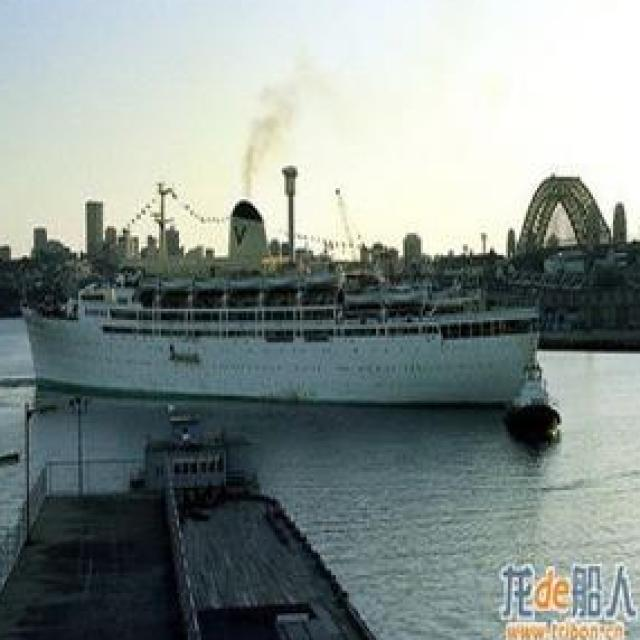passenger ship: (20, 252, 549, 397), (507, 359, 562, 430)
